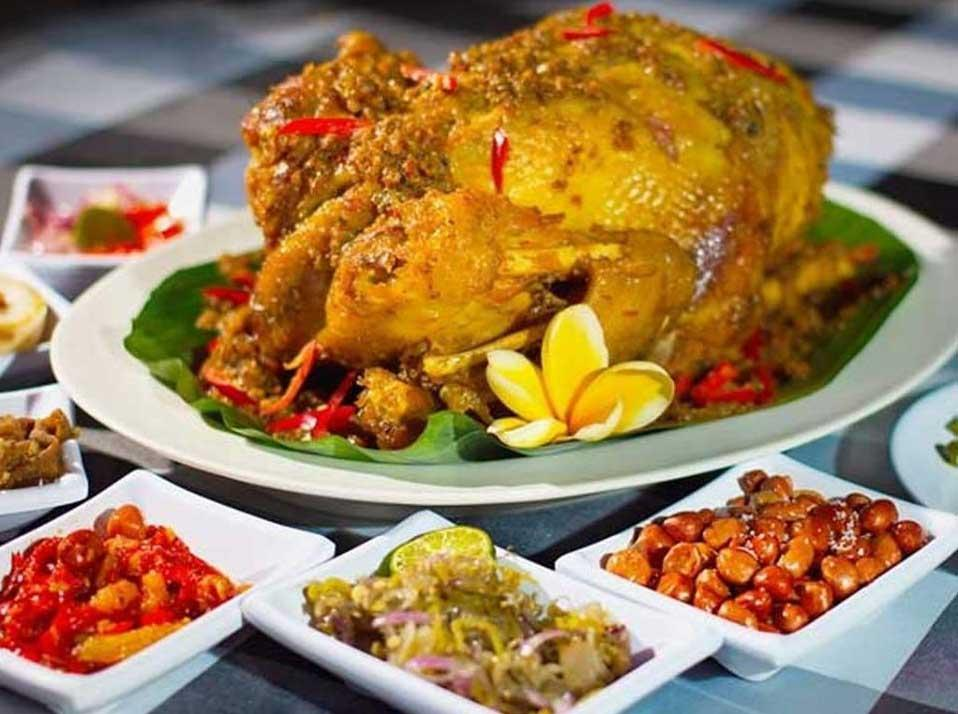ayam_betutu: (241, 6, 837, 400)
